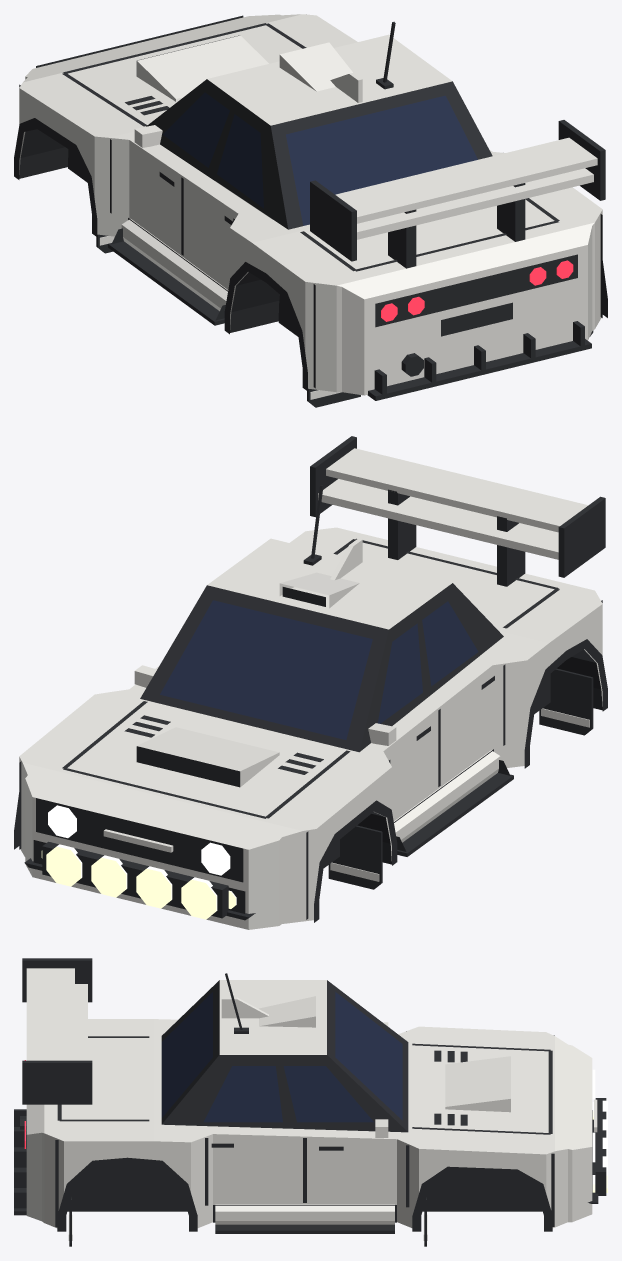
The model's file is Hoshi.glb.
3 views of the same model, one above another, from view 1: azimuth 30°, elevation 25°; view 2: azimuth 150°, elevation 25°; view 3: azimuth 270°, elevation 25° (orthographic). The views are drawn at different scales.
Parts seen in each view (by area): view 1: BumperRear, RearWindow, Opt_Wing_Rally_WingBlade, Hood, Pillars, Trunk, Roof, Door_FL, Opt_Wing_Rally_Wing, Opt_Hood_Scoop_HoodScoop, TailGarnish, Underbody (+22 smaller); view 2: Hood, Windshield, BumperFront, Opt_Wing_Rally_WingBlade, Pillars, Roof, Trunk, Opt_Wing_Rally_Wing, Door_RL, Grille, Opt_Bumper_Lamps_RallyLamp, Fender_RL (+24 smaller); view 3: Hood, Pillars, Trunk, WheelWell, Door_FR, Door_RR, BumperFront, Roof, Opt_Wing_Rally_WingBlade, Windshield, Fender_RR, Opt_Wing_Rally_Wing (+18 smaller).
Part boxes in pixels (x1,y1,x2,y2): BumperRear: (319,215,599,395); RearWindow: (286,95,477,225); Opt_Wing_Rally_WingBlade: (335,137,597,239); Hood: (19,14,357,137); Pillars: (146,79,492,229); Trunk: (252,187,602,283); Roof: (207,34,452,125); Door_FL: (108,138,183,257); Opt_Wing_Rally_Wing: (310,120,605,268); Opt_Hood_Scoop_HoodScoop: (137,35,268,101); TailGarnish: (375,254,577,327); Underbody: (19,129,279,332); Hood: (19,692,391,830); Windshield: (160,600,372,739); BumperFront: (22,763,302,929); Opt_Wing_Rally_WingBlade: (318,448,587,559); Pillars: (140,583,503,752); Roof: (207,538,451,629); Trunk: (290,529,602,642); Opt_Wing_Rally_Wing: (310,436,605,586); Door_RL: (438,663,506,788); Grille: (36,798,243,882); Opt_Bumper_Lamps_RallyLamp: (46,844,217,919); Fender_RL: (506,604,602,767); Hood: (410,1026,554,1154); Pillars: (161,980,408,1132); Trunk: (55,1019,153,1141); WheelWell: (67,1165,542,1211); Door_FR: (305,1136,410,1227); Door_RR: (204,1134,304,1225); BumperFront: (555,1036,592,1227); Roof: (219,980,326,1054); Opt_Wing_Rally_WingBlade: (26,968,87,1060); Windshield: (335,992,402,1120); Fender_RR: (55,1137,204,1227); Opt_Wing_Rally_Wing: (22,958,92,1104).
Bounding box in the file's own units: 6.66 × 5.84 × 13.55.
